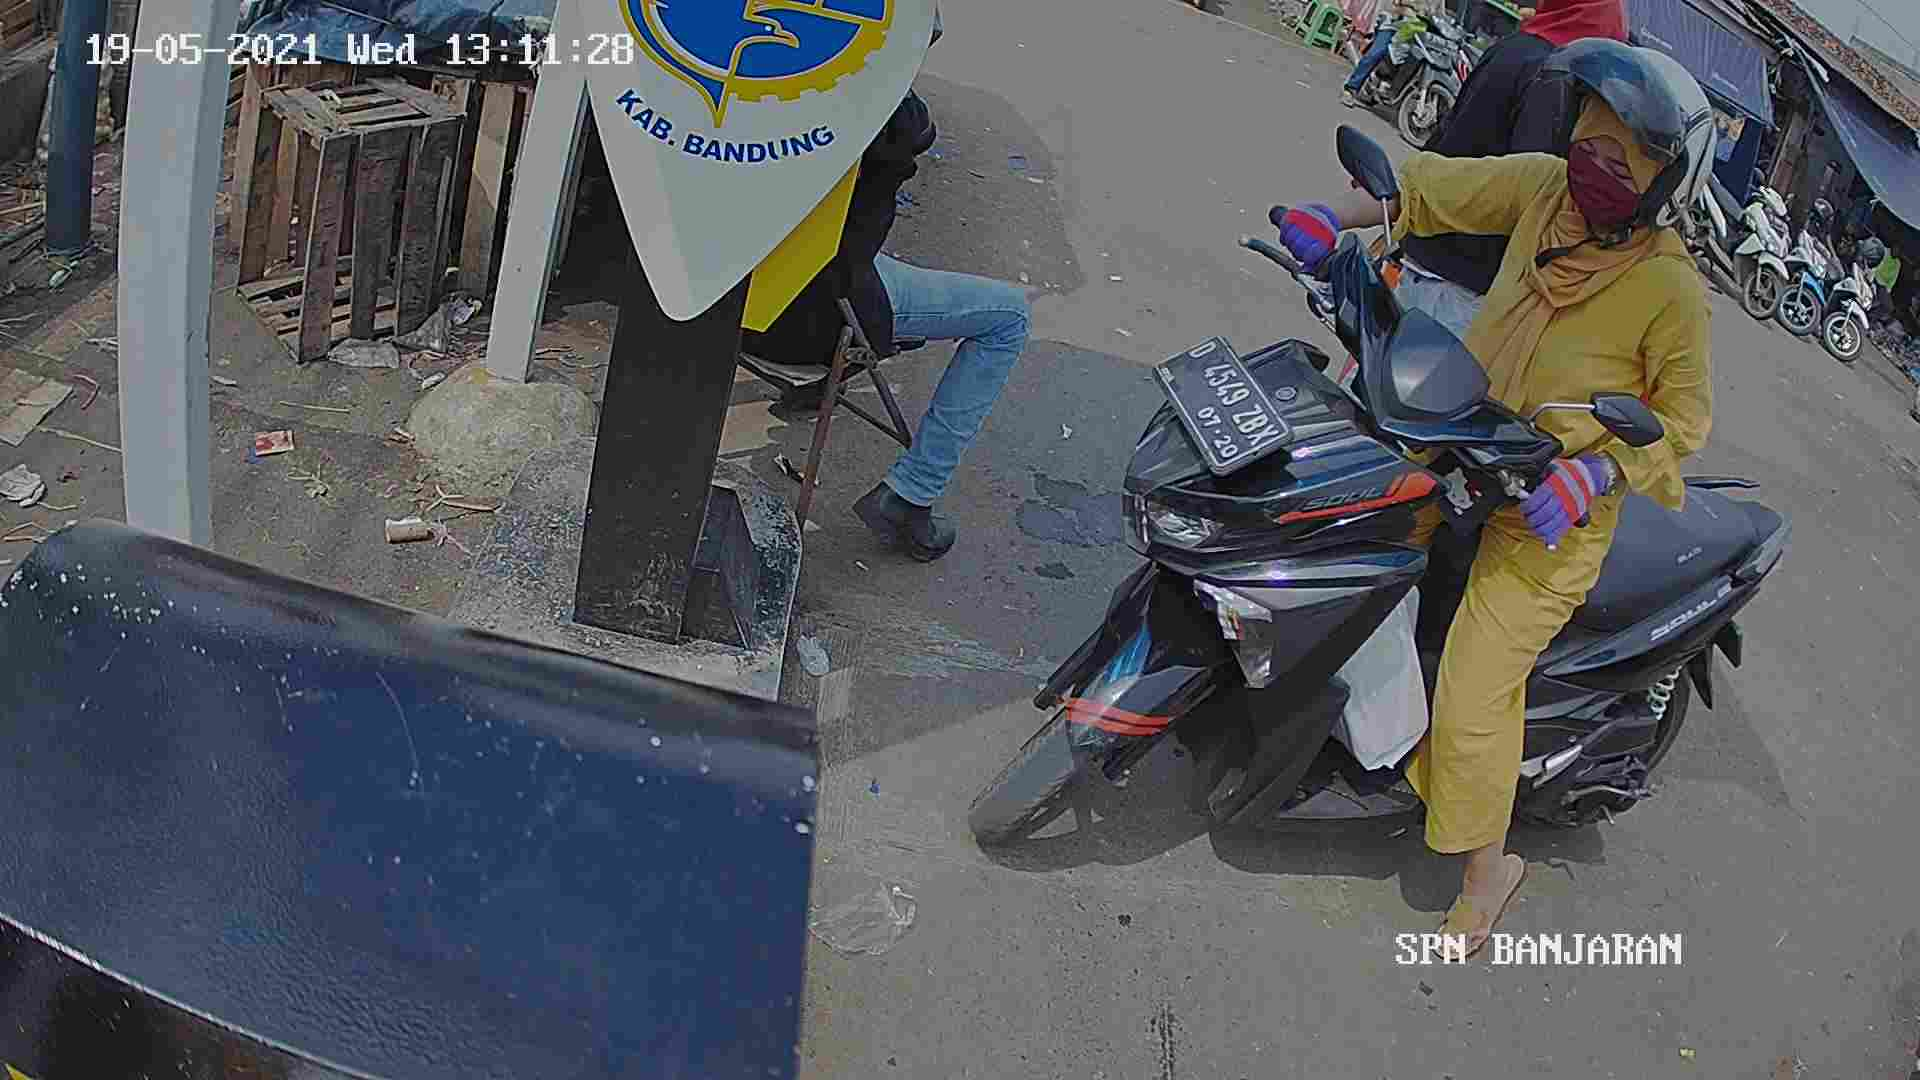motor: (953, 313, 1801, 885)
